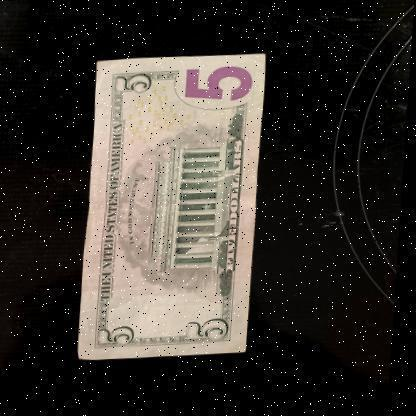five-back: (81, 52, 269, 363)
